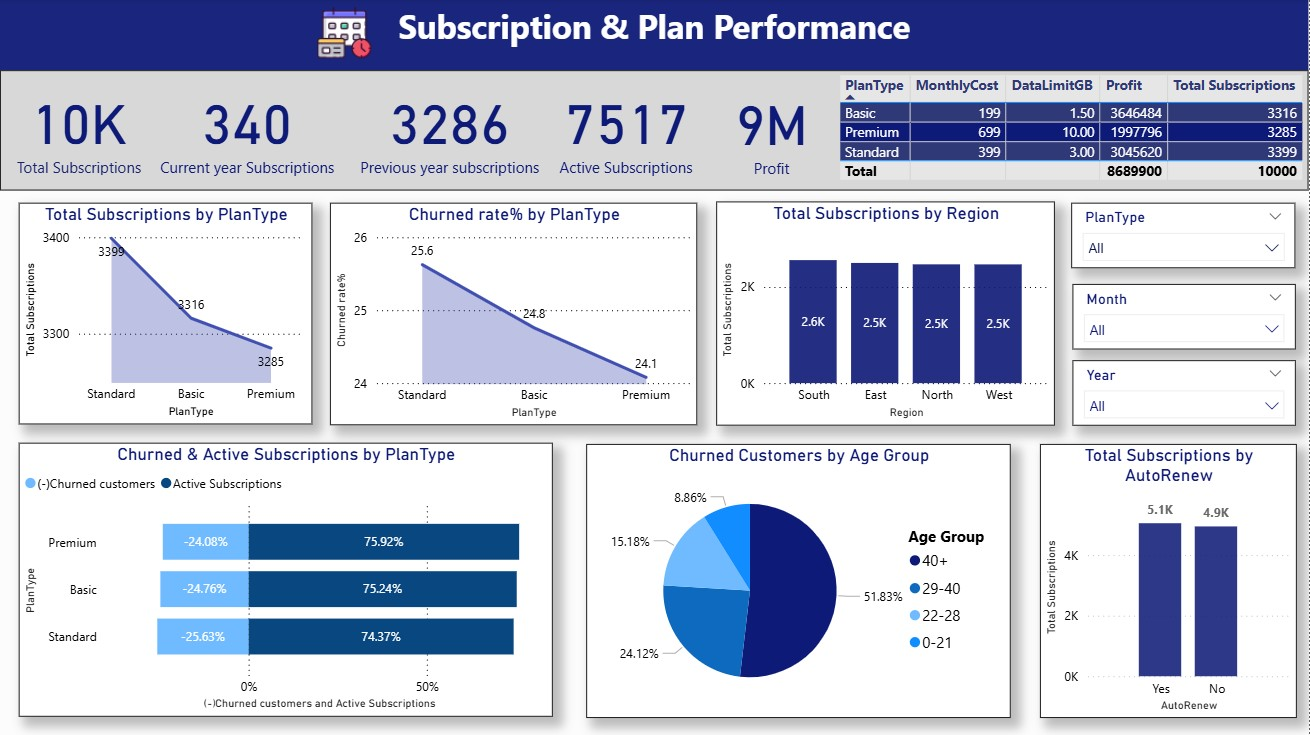

Layout of this report page (visuals, bound fields, positions):
{"tool":"powerbi","page":{"name":"Subscription","canvas":[1280,720],"ordinal":1},"visuals":[{"type":"textbox","box":[0,0,1280.3,69.7],"z":0},{"type":"lineChart","fields":{"Category":["plans.PlanType"],"Y":["subscriptions.Customers per Plan"]},"box":[18.3,199.3,287.4,216.4],"z":1000},{"type":"lineChart","fields":{"Y":["subscriptions.Churned rate%"],"Category":["plans.PlanType"]},"box":[322.8,199.3,359.5,217.7],"z":2000},{"type":"textbox","box":[0,70,1280,117.5],"z":3000},{"type":"columnChart","fields":{"Y":["subscriptions.Customers per Plan"],"Category":["customers.Region"]},"box":[700.7,198.1,331.4,218.9],"z":4000},{"type":"hundredPercentStackedBarChart","title":"Churned & Active Subscriptions by PlanType","fields":{"Y":["subscriptions.(-)Churned customers","subscriptions.Active Subscriptions"],"Category":["plans.PlanType"]},"box":[18.3,434.1,522.1,267.8],"z":5000},{"type":"columnChart","fields":{"Category":["subscriptions.AutoRenew"],"Y":["subscriptions.Customers per Plan"]},"box":[1017.1,435.2,250.8,268.4],"z":6000},{"type":"card","fields":{"Values":["subscriptions.Total Subscriptions"]},"box":[0,74.6,155.3,102.7],"z":7000},{"type":"pieChart","fields":{"Category":["customers.Age Group"],"Y":["subscriptions.Churned Customers"]},"box":[573.2,435.2,415.1,268.4],"z":8000},{"type":"tableEx","fields":{"Values":["plans.PlanType","plans.MonthlyCost","plans.DataLimitGB","subscriptions.Profit","subscriptions.Total Subscriptions"]},"box":[815.6,69.7,464.7,117.4],"z":9000},{"type":"slicer","fields":{"Values":["plans.PlanType"]},"box":[1048.3,199.4,219.4,63.9],"z":10000},{"type":"slicer","fields":{"Values":["Subscriptions DTable.Month"]},"box":[1049.4,278.9,218.3,63.9],"z":11000},{"type":"slicer","fields":{"Values":["Subscriptions DTable.Year"]},"box":[1049.4,353.3,218.3,63.9],"z":12000},{"type":"card","fields":{"Values":["subscriptions.Current year Subscriptions"]},"box":[139.4,68.5,205.4,114.9],"z":13000},{"type":"card","fields":{"Values":["subscriptions.Previous year subscriptions"]},"box":[337.5,64.8,205.4,122.3],"z":14000},{"type":"card","fields":{"Values":["subscriptions.Active Subscriptions"]},"box":[509.9,57.5,205.4,137],"z":15000},{"type":"card","fields":{"Values":["subscriptions.Profit"]},"box":[697,74.6,116.2,105.2],"z":16000},{"type":"image","box":[305.7,0,62.4,64.8],"z":16001}]}

Visuals, with their boxes in screenshot pixels (x1, y1, x2, y2), scaled from the page's 1280x720 canvas onto the 1310x735 screenshot:
textbox: box(0, 0, 1309, 71)
lineChart - plans.PlanType x subscriptions.Customers per Plan: box(19, 203, 313, 424)
lineChart - subscriptions.Churned rate% x plans.PlanType: box(330, 203, 698, 426)
textbox: box(0, 71, 1309, 191)
columnChart - subscriptions.Customers per Plan x customers.Region: box(717, 202, 1056, 426)
"Churned & Active Subscriptions by PlanType" hundredPercentStackedBarChart: box(19, 443, 553, 717)
columnChart - subscriptions.AutoRenew x subscriptions.Customers per Plan: box(1041, 444, 1298, 718)
card - subscriptions.Total Subscriptions: box(0, 76, 159, 181)
pieChart - customers.Age Group x subscriptions.Churned Customers: box(587, 444, 1011, 718)
tableEx - plans.PlanType x plans.MonthlyCost: box(835, 71, 1309, 191)
slicer - plans.PlanType: box(1073, 204, 1297, 269)
slicer - Subscriptions DTable.Month: box(1074, 285, 1297, 350)
slicer - Subscriptions DTable.Year: box(1074, 361, 1297, 426)
card - subscriptions.Current year Subscriptions: box(143, 70, 353, 187)
card - subscriptions.Previous year subscriptions: box(345, 66, 556, 191)
card - subscriptions.Active Subscriptions: box(522, 59, 732, 199)
card - subscriptions.Profit: box(713, 76, 832, 184)
image: box(313, 0, 377, 66)
